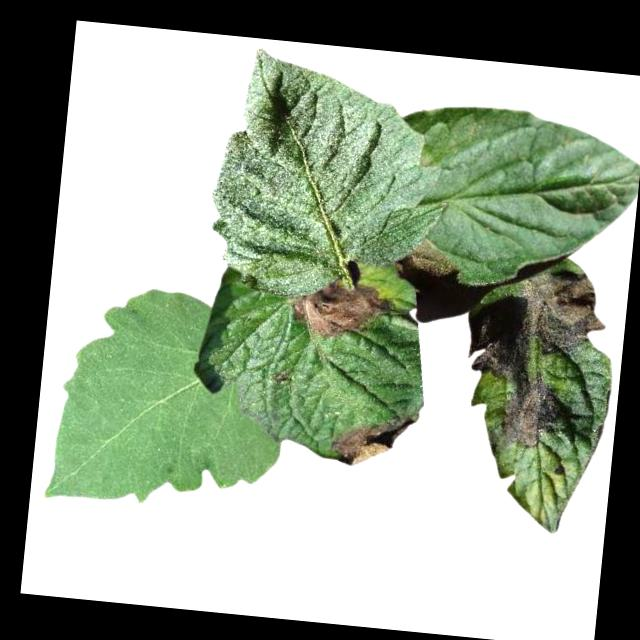Late_blight: (463, 259, 612, 389), (288, 275, 396, 346), (483, 375, 566, 461), (327, 406, 418, 471), (396, 236, 458, 279), (268, 366, 291, 383)
healthy: (202, 43, 460, 310), (45, 281, 295, 517)
